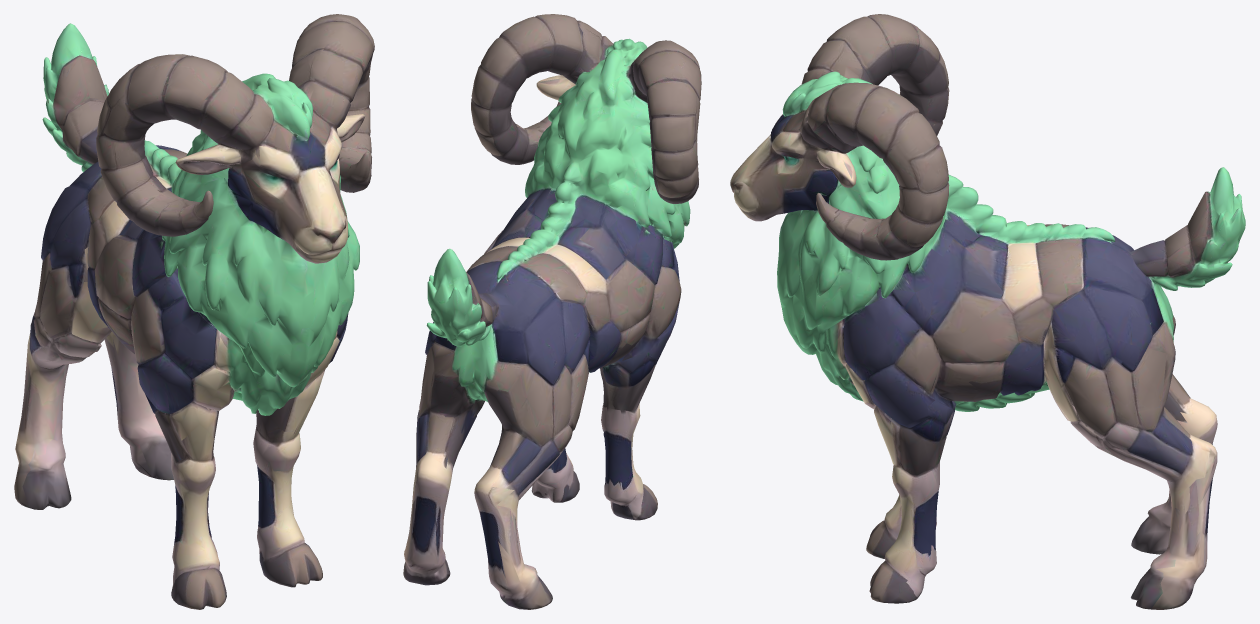
The picture shows the model from 3 angles, left to right: view 1: azimuth 30°, elevation 25°; view 2: azimuth 150°, elevation 25°; view 3: azimuth 270°, elevation 25°; orthographic projection. The views are drawn at different scales.
Visible parts, largest first — view 1: Mesh_0; view 2: Mesh_0; view 3: Mesh_0.
Part boxes in pixels (left/top/right/bottom): Mesh_0: left=14, top=14, right=374, bottom=609; Mesh_0: left=403, top=14, right=701, bottom=609; Mesh_0: left=730, top=14, right=1245, bottom=609.
Size of the model in its own units: 0.9535 by 1.9 by 1.71.
1 material, 1 textured.
